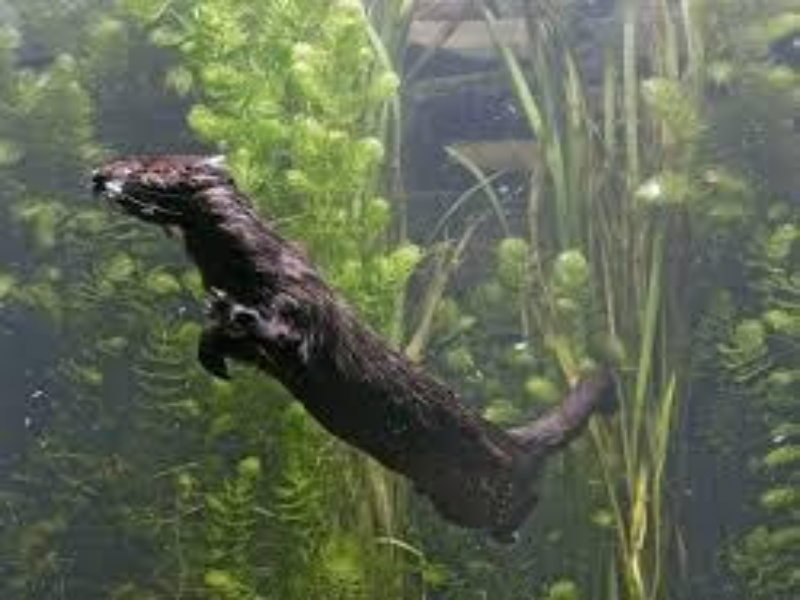minkish: (86, 146, 626, 547)
